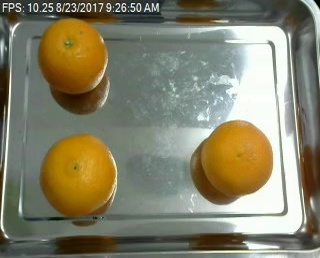Orange: (39, 132, 119, 218), (201, 118, 274, 198), (38, 17, 107, 93)
